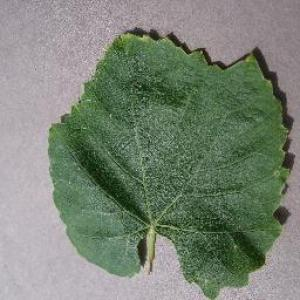Folha: (46, 26, 292, 299)
